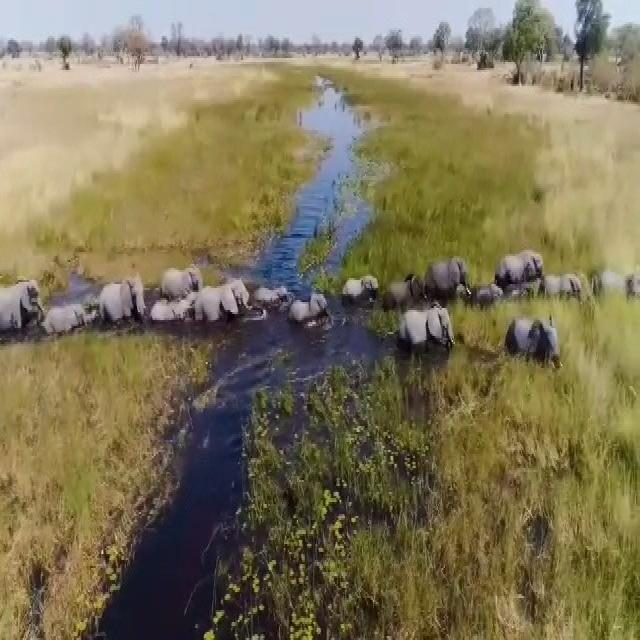Elephant: (501, 317, 561, 372), (394, 312, 458, 352), (422, 256, 479, 299), (200, 278, 246, 328), (0, 283, 41, 338), (540, 270, 591, 312), (99, 283, 144, 328), (47, 300, 91, 339), (290, 293, 334, 331), (382, 270, 423, 308), (343, 262, 376, 309), (147, 298, 200, 327), (501, 252, 546, 285), (160, 259, 202, 288), (250, 280, 290, 306)
